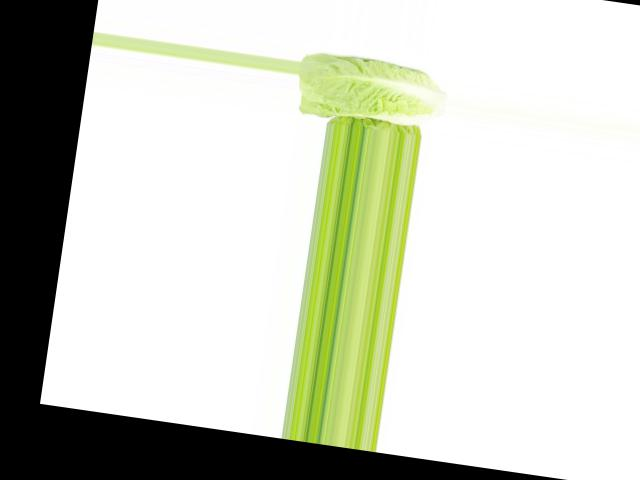lettuce: (292, 39, 452, 131)
